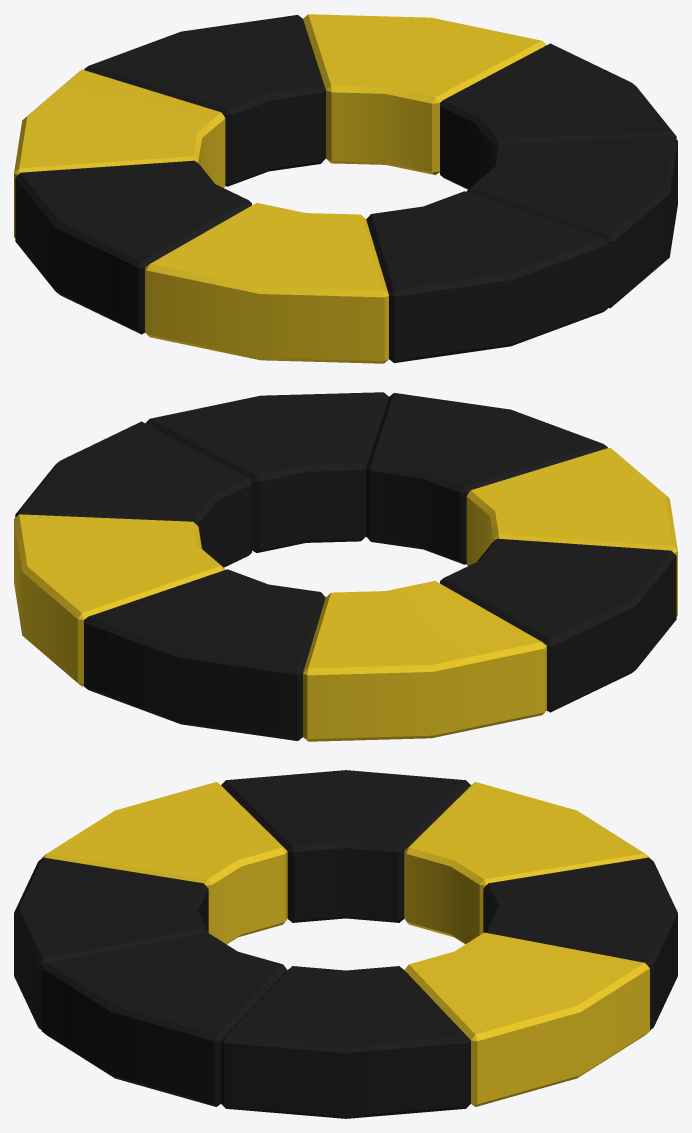
3 views of the same model, one above another, from view 1: azimuth 30°, elevation 25°; view 2: azimuth 150°, elevation 25°; view 3: azimuth 270°, elevation 25° (orthographic).
Visible parts, largest first — view 1: Black_platform 4.004, Yellow_platform 1.004, Yellow_platform 4.004, Black_platform 1.004, Yellow_platform 3.004, Black_platform 2.004, Yellow_platform 2.004, Black_platform 3.004; view 2: Black_platform 3.004, Yellow_platform 3.004, Yellow_platform 4.004, Black_platform 2.004, Yellow_platform 1.004, Black_platform 1.004, Yellow_platform 2.004, Black_platform 4.004; view 3: Yellow_platform 2.004, Black_platform 2.004, Black_platform 1.004, Yellow_platform 4.004, Black_platform 4.004, Black_platform 3.004, Yellow_platform 1.004, Yellow_platform 3.004.
Boxes of the visible parts, x1,y1,x2,y2 form: Black_platform 4.004: (145, 203, 388, 363); Yellow_platform 1.004: (366, 191, 607, 362); Yellow_platform 4.004: (15, 160, 251, 334); Black_platform 1.004: (303, 14, 546, 174); Yellow_platform 3.004: (84, 15, 325, 186); Black_platform 2.004: (466, 136, 677, 308); Yellow_platform 2.004: (440, 43, 676, 189); Black_platform 3.004: (14, 69, 225, 237); Black_platform 3.004: (303, 581, 546, 741); Yellow_platform 3.004: (84, 569, 325, 740); Yellow_platform 4.004: (440, 538, 676, 712); Black_platform 2.004: (145, 392, 388, 552); Yellow_platform 1.004: (366, 393, 607, 564); Black_platform 1.004: (14, 514, 225, 686); Yellow_platform 2.004: (15, 421, 251, 567); Black_platform 4.004: (466, 447, 677, 615); Yellow_platform 2.004: (221, 966, 470, 1118); Black_platform 2.004: (42, 932, 287, 1106); Black_platform 1.004: (404, 932, 649, 1106); Yellow_platform 4.004: (221, 770, 470, 922); Black_platform 4.004: (42, 782, 287, 944); Black_platform 3.004: (404, 782, 649, 944); Yellow_platform 1.004: (14, 857, 208, 1030); Yellow_platform 3.004: (483, 857, 677, 1030).
Bounding box in the file's own units: 1287 × 1287 × 165.
